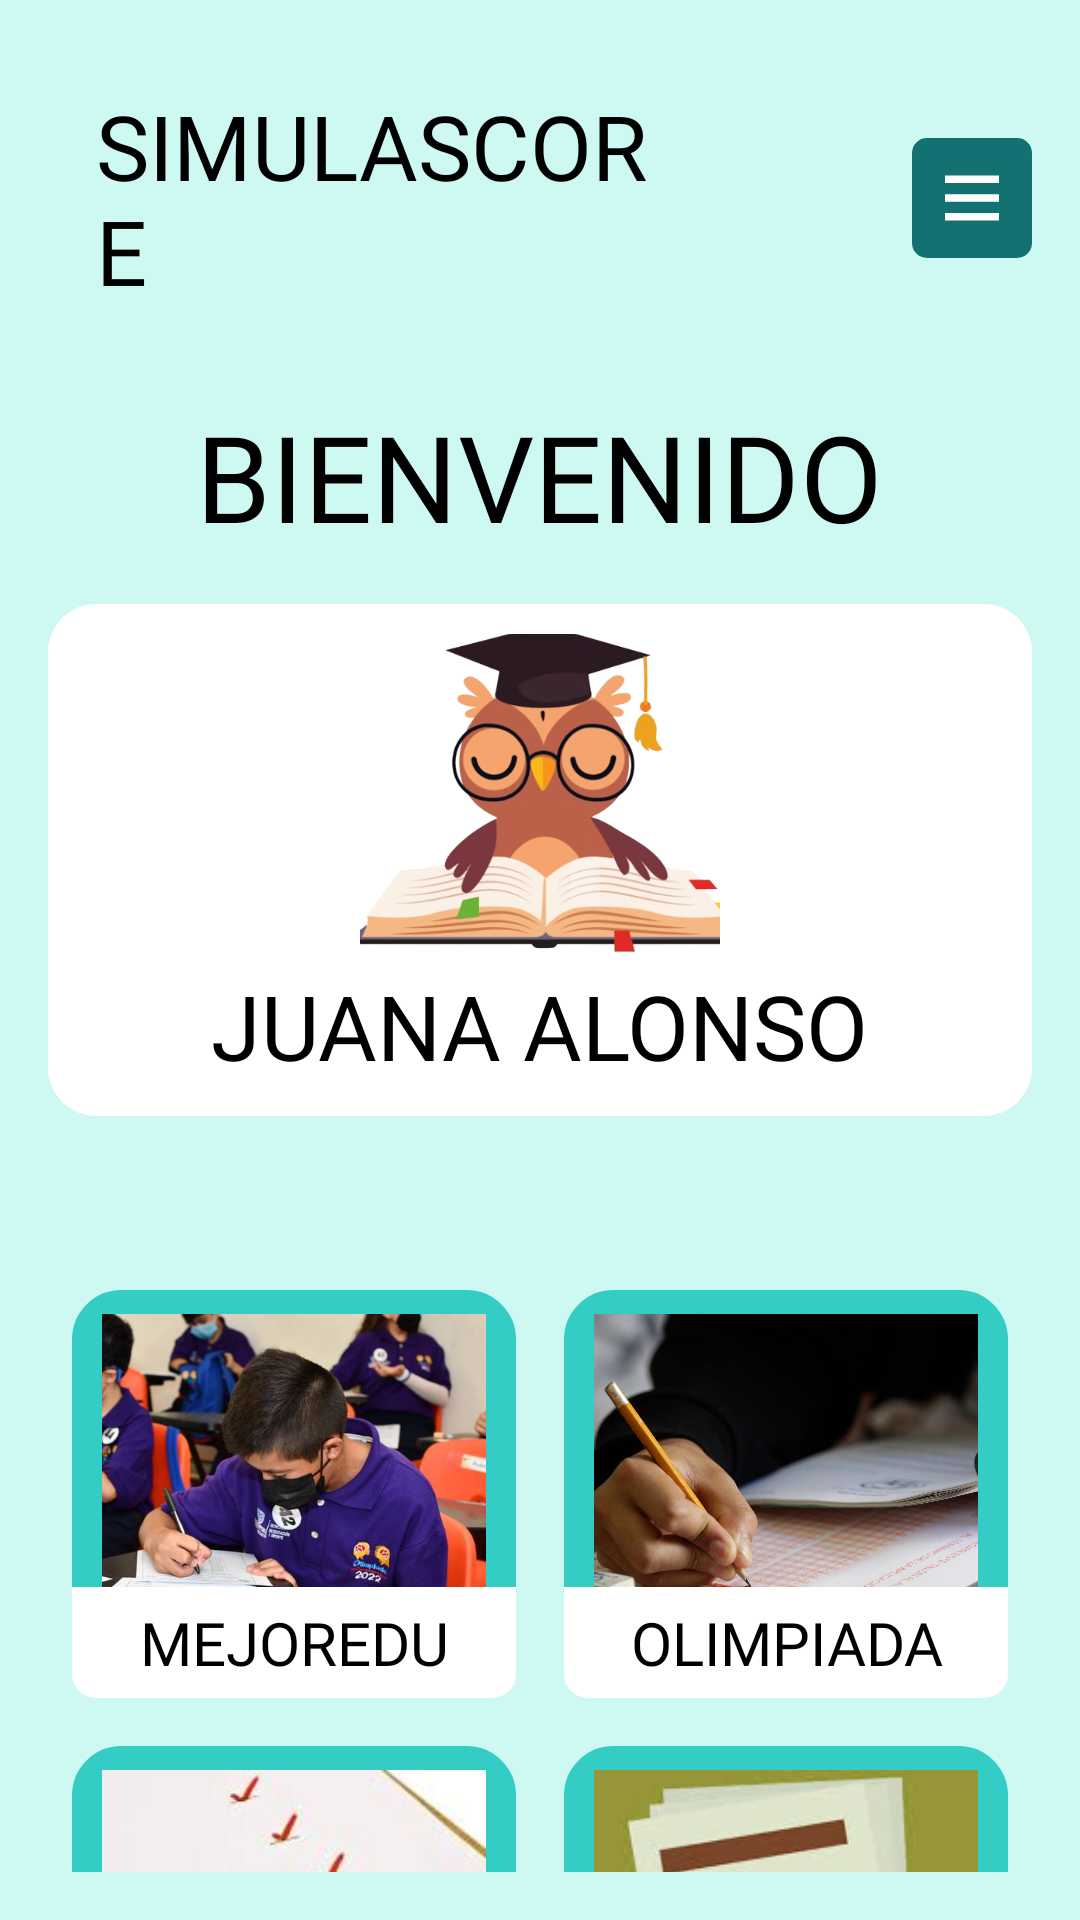

Screen size 1080 x 1920. Icon name, then its box in pixels as box(x1, y1, x2, y2):
buho: box(360, 634, 720, 952)
menu: box(912, 138, 1032, 258)
